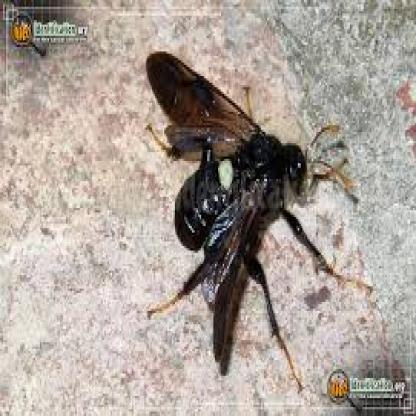sawfly: (136, 42, 383, 382)
